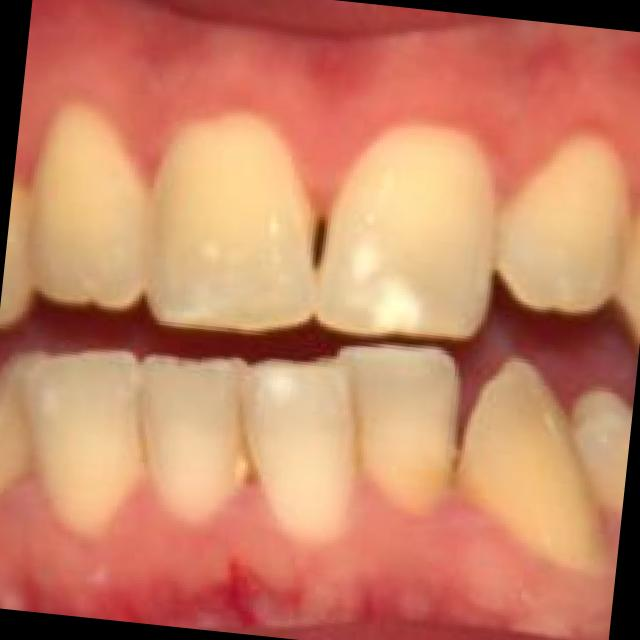cavity: (297, 198, 341, 270), (233, 438, 267, 495)
